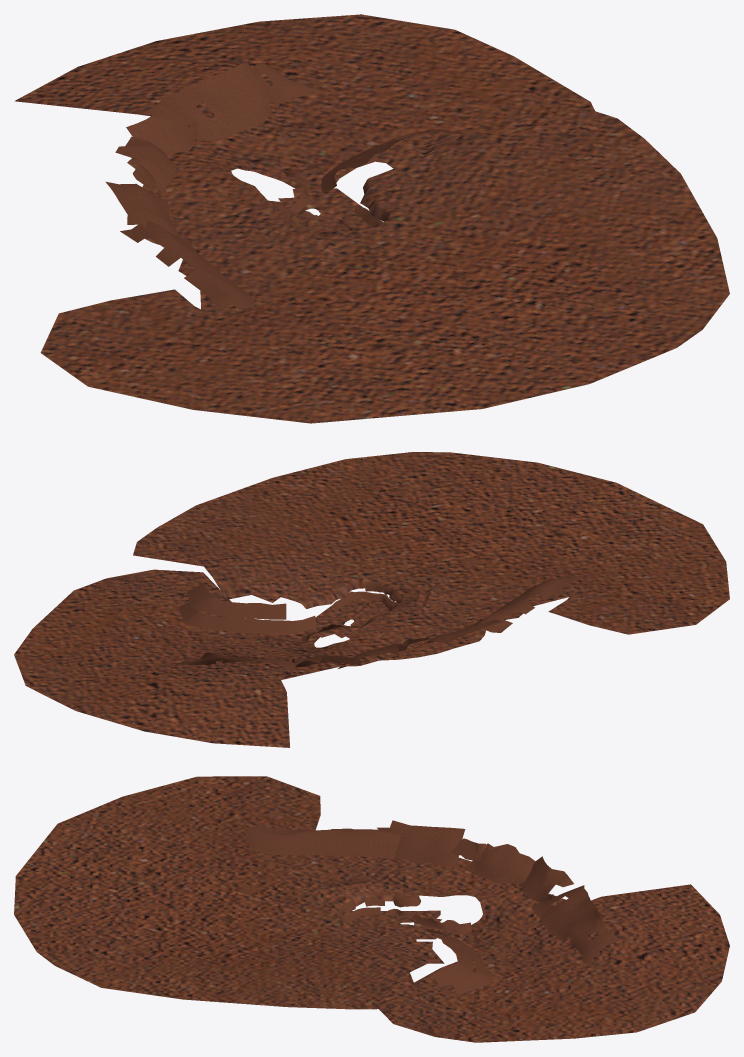
File: terrain.dae
3 renders of one model, top to bottom at view 1: azimuth 30°, elevation 25°; view 2: azimuth 150°, elevation 25°; view 3: azimuth 270°, elevation 25°, orthographic. The views are drawn at different scales.
Visible parts, largest first — view 1: terrain, dirt_mound; view 2: terrain, dirt_mound; view 3: terrain, dirt_mound.
Part boxes in pixels (x1,y1,x2,y2): terrain: (14,14,729,423); dirt_mound: (105,62,463,310); terrain: (14,452,729,747); dirt_mound: (169,574,581,672); terrain: (14,776,729,1042); dirt_mound: (245,820,619,994).
Size of the model in its own units: 531 by 639 by 34.49.
1 material, 1 textured.
